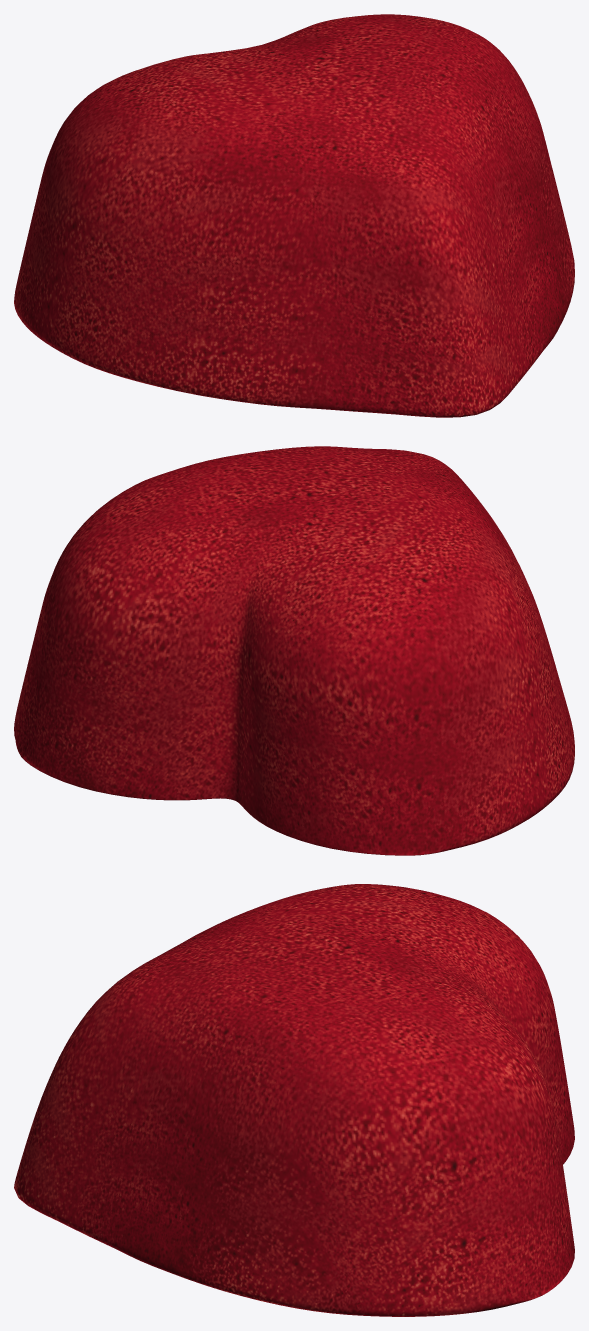
The model's file is persian_rose.gltf.
3 renders of one model, top to bottom at view 1: azimuth 30°, elevation 25°; view 2: azimuth 150°, elevation 25°; view 3: azimuth 270°, elevation 25°, orthographic. The views are drawn at different scales.
Parts seen in each view (by area): view 1: Chocolate.001; view 2: Chocolate.001; view 3: Chocolate.001.
Part boxes in pixels (x1,y1,x2,y2): Chocolate.001: (14,14,574,417); Chocolate.001: (14,446,574,855); Chocolate.001: (14,884,574,1316).
Bounding box in the file's own units: 1.89 × 0.8786 × 1.78.
1 material, 1 textured.
